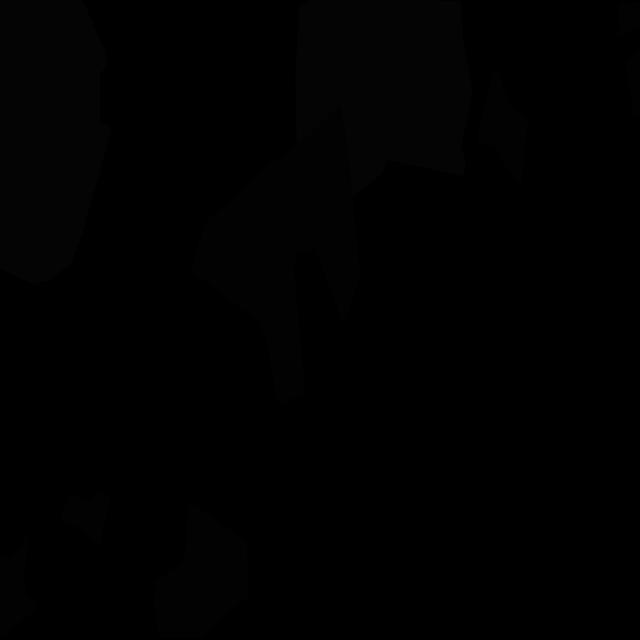cardboard: (190, 105, 360, 406), (153, 500, 248, 638), (478, 65, 528, 186), (0, 535, 38, 639), (618, 1, 640, 117), (61, 493, 109, 546)
soft_plastic: (295, 0, 473, 197)
